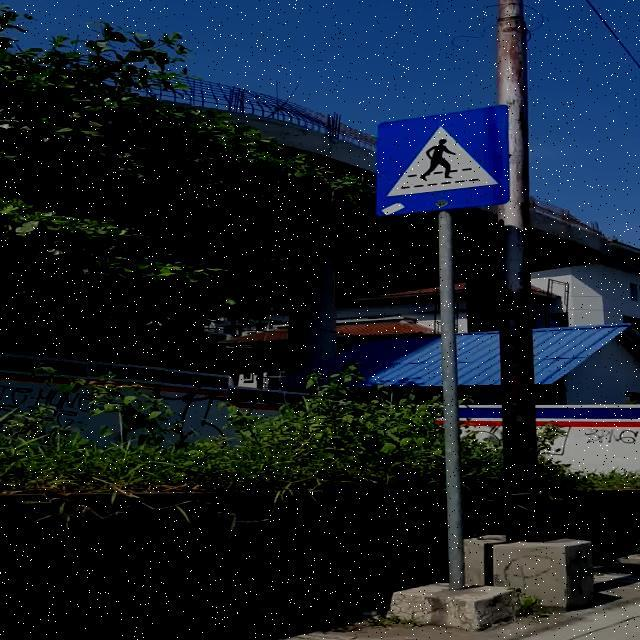Perintah Jalur Penyebrangan: (376, 104, 510, 217)
